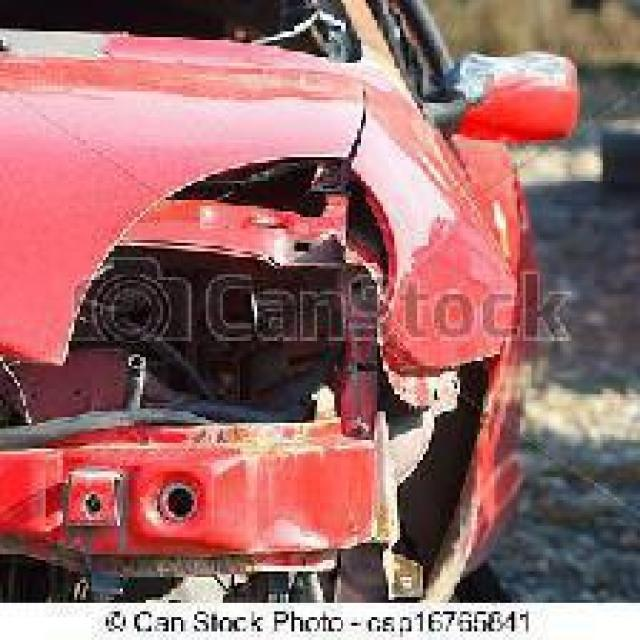damaged: (2, 157, 512, 609), (0, 2, 369, 74), (423, 40, 583, 146)
